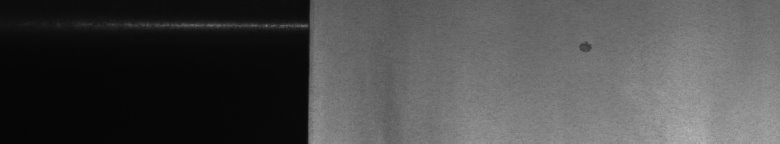fi: (576, 33, 596, 60)
